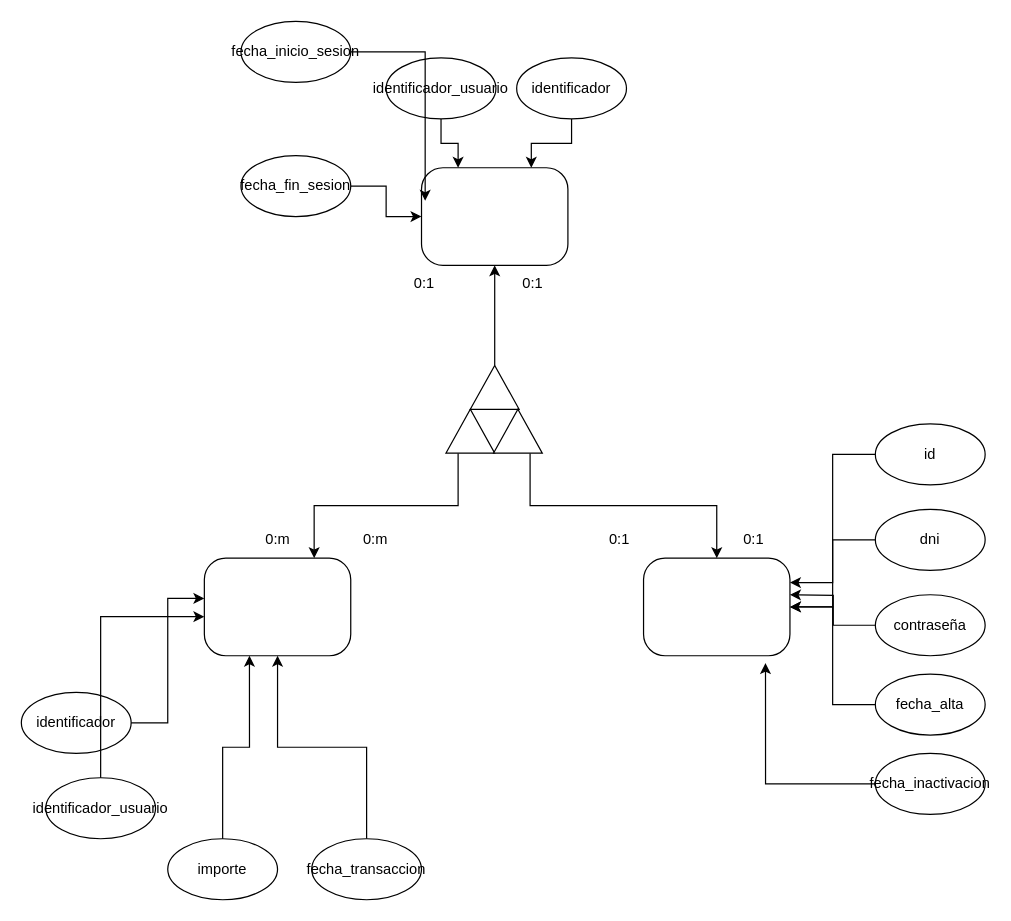
Some shapes in this 1011 by 921 pixel diagram are drawn without their labels. The shapes that lost their labels are listed below. From the top down, each one's centre as x and y in pixels, then its label:
point 494,216: Sesion
point 277,606: Transaccion
point 716,606: Usuario
